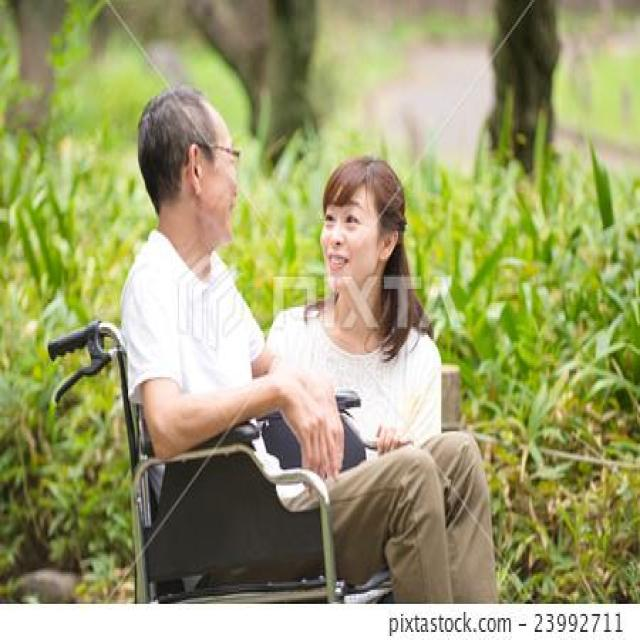wheelchairs: (42, 310, 416, 614)
